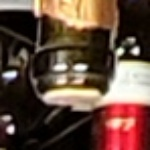bottle: (17, 32, 130, 136)
